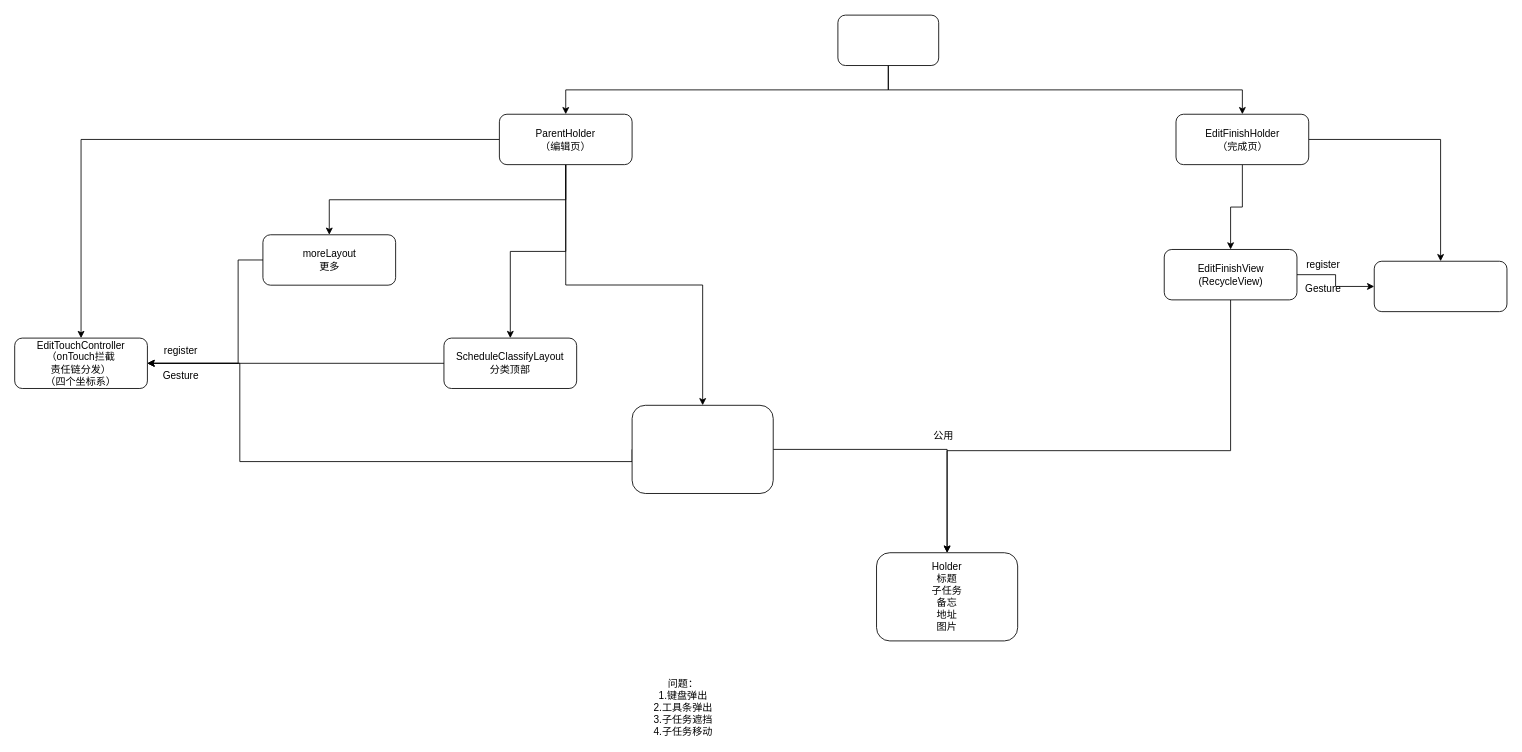
Image size: 1522x752. Some labels were removed from this diagram. The centre of each missing label's shape, as x and y in pixels:
"EditFinishTouchController （两个坐标系）" goes at (x=1440, y=286).
"ScheduleClassifyRecycleView （RecycleView）" goes at (x=702, y=449).
"ScheduleEditActivity （TopViewHolder 主页）" goes at (x=888, y=40).
